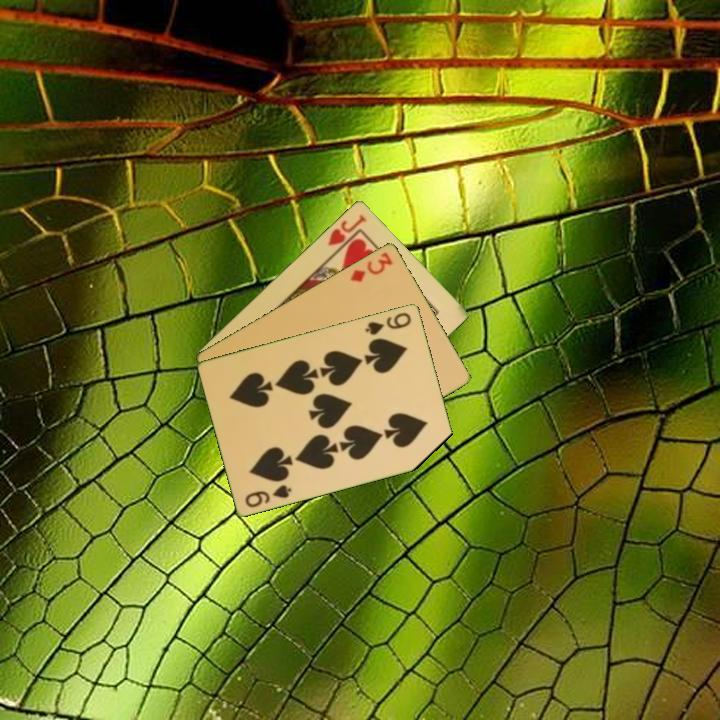3d: (347, 248, 396, 285)
9s: (362, 308, 414, 338), (242, 481, 295, 510)
Jh: (324, 210, 369, 248)
